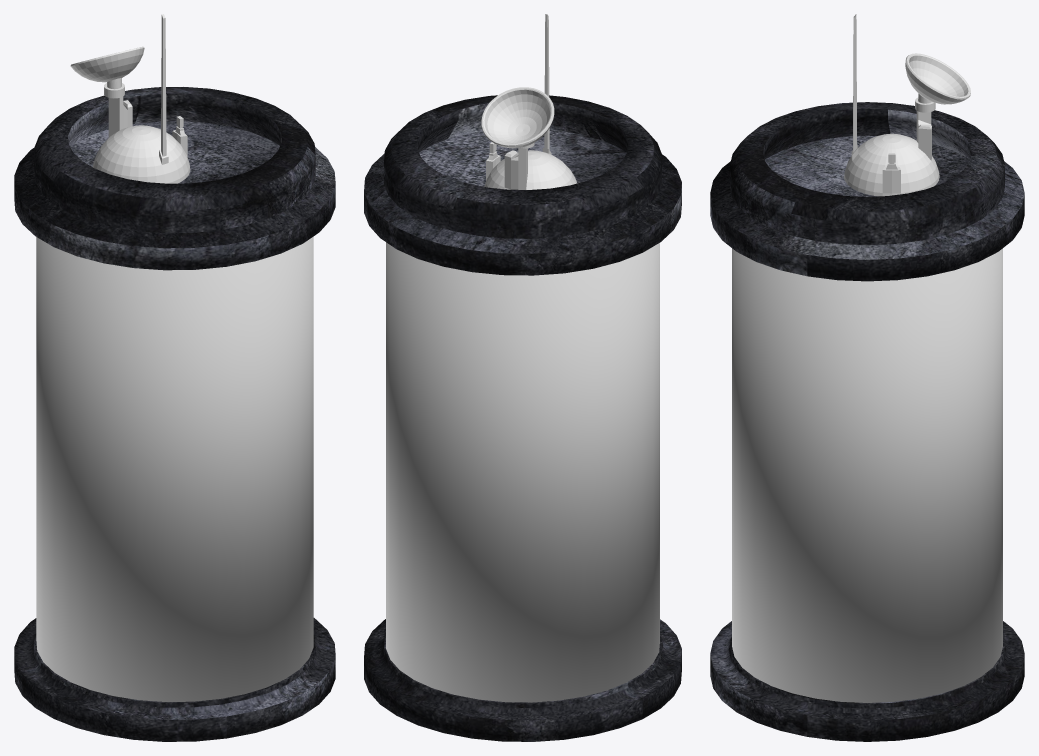
File: ScienceCell.fbx
3 views of the same model, side by side, from view 1: azimuth 30°, elevation 25°; view 2: azimuth 150°, elevation 25°; view 3: azimuth 270°, elevation 25° (orthographic). The views are drawn at different scales.
Visible parts, largest first — view 1: Cylinder.001, Cylinder, Sphere, Cylinder.003; view 2: Cylinder.001, Cylinder, Sphere, Cylinder.003; view 3: Cylinder.001, Cylinder, Sphere, Cylinder.003.
Boxes of the visible parts, x1,y1,x2,y2 form: Cylinder.001: (36, 236, 313, 701); Cylinder: (14, 87, 335, 741); Sphere: (92, 14, 190, 183); Cylinder.003: (70, 46, 144, 98); Cylinder.001: (386, 242, 659, 702); Cylinder: (364, 95, 681, 741); Sphere: (484, 14, 577, 189); Cylinder.003: (481, 87, 554, 148); Cylinder.001: (732, 248, 1002, 702); Cylinder: (710, 102, 1024, 741); Sphere: (844, 14, 939, 196); Cylinder.003: (905, 53, 970, 112).
Bounding box in the file's own units: 326 × 746 × 326.
Materials: 3 (1 with a texture image).
